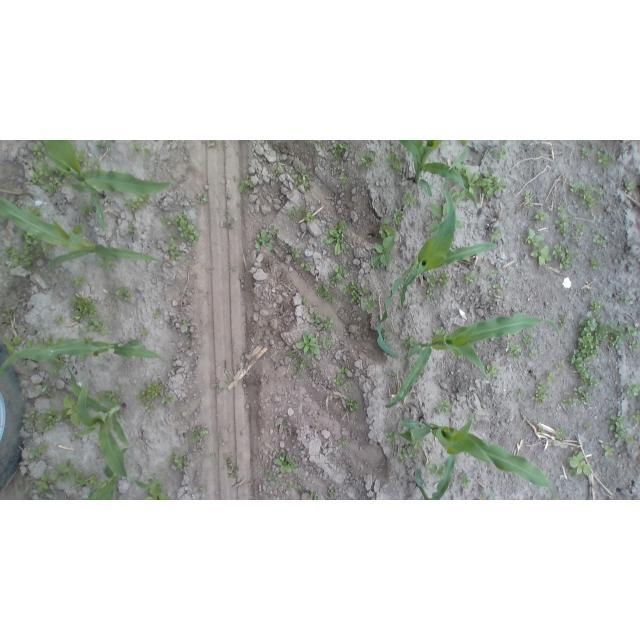Maize: (374, 191, 495, 360), (385, 312, 560, 410), (401, 410, 553, 499), (40, 141, 173, 232), (0, 196, 160, 267), (66, 354, 130, 478), (2, 338, 167, 375), (399, 141, 478, 208), (87, 448, 162, 500), (415, 454, 458, 500)
Weeds: (570, 310, 639, 387), (3, 231, 42, 269), (27, 160, 65, 194), (322, 219, 346, 256), (52, 460, 86, 486), (568, 179, 596, 209), (369, 236, 395, 268), (527, 229, 550, 265), (460, 166, 488, 195), (252, 224, 280, 250), (61, 393, 82, 427), (568, 450, 592, 479), (176, 213, 199, 243), (296, 332, 323, 357), (484, 172, 507, 198), (136, 379, 163, 401), (555, 205, 572, 239), (289, 165, 311, 191), (273, 453, 301, 473), (552, 240, 572, 268), (605, 413, 626, 437), (71, 295, 95, 315), (333, 366, 352, 391), (312, 310, 335, 330), (40, 408, 57, 434), (328, 262, 348, 284), (167, 233, 183, 260), (143, 485, 171, 500), (342, 278, 358, 304), (120, 196, 151, 209), (356, 151, 378, 169), (362, 287, 377, 313), (376, 218, 396, 237), (534, 382, 551, 404), (425, 272, 438, 300), (331, 140, 349, 160), (314, 282, 334, 300), (597, 151, 617, 169), (3, 335, 23, 353), (489, 142, 508, 160), (35, 472, 50, 493), (573, 387, 591, 404), (397, 445, 416, 461), (389, 151, 404, 171), (573, 221, 584, 247), (188, 429, 208, 443), (29, 444, 50, 457), (436, 400, 453, 415), (99, 258, 116, 273), (76, 148, 89, 167), (428, 462, 444, 477), (236, 178, 251, 194), (88, 318, 105, 332), (404, 335, 417, 353), (581, 142, 594, 160), (103, 391, 121, 404), (558, 308, 569, 329), (626, 381, 640, 397), (115, 286, 131, 300), (509, 344, 522, 361), (345, 397, 360, 411), (24, 406, 38, 421), (393, 208, 406, 224), (460, 475, 473, 490), (486, 364, 499, 379), (439, 272, 452, 287), (594, 233, 609, 246), (1, 306, 14, 321), (297, 360, 312, 373), (388, 429, 399, 446), (404, 191, 417, 205), (160, 213, 175, 225), (521, 334, 535, 346), (464, 271, 476, 285), (32, 145, 46, 157), (40, 383, 52, 397), (535, 210, 550, 221), (524, 189, 534, 205), (290, 246, 302, 259), (337, 436, 349, 449), (175, 454, 186, 468), (210, 382, 227, 391), (589, 300, 604, 310), (127, 219, 137, 234), (28, 205, 43, 215), (339, 169, 348, 185), (162, 392, 174, 404), (222, 219, 235, 230), (545, 371, 558, 382), (81, 202, 92, 215), (271, 164, 284, 175), (322, 335, 332, 349), (630, 409, 640, 423), (43, 244, 57, 254), (87, 474, 98, 486), (493, 283, 506, 293), (288, 206, 298, 219), (300, 258, 310, 270), (77, 323, 87, 334), (142, 147, 152, 158), (591, 259, 601, 270), (382, 329, 390, 342), (528, 348, 538, 358), (623, 295, 633, 305), (491, 228, 501, 238), (74, 275, 84, 285), (574, 249, 584, 259), (135, 328, 145, 338), (132, 143, 141, 154), (53, 357, 64, 366), (299, 203, 306, 217), (168, 451, 175, 465), (478, 493, 494, 499), (606, 445, 615, 455), (624, 180, 634, 189), (198, 194, 208, 203), (556, 428, 564, 439), (387, 371, 398, 379), (432, 328, 446, 334), (556, 361, 565, 370), (307, 213, 316, 222), (490, 268, 500, 276), (308, 490, 318, 498), (90, 156, 101, 163), (97, 142, 112, 147), (35, 336, 44, 344), (564, 398, 573, 406), (145, 403, 153, 412), (268, 473, 276, 482), (47, 335, 54, 345), (208, 140, 216, 148), (286, 480, 294, 488), (54, 316, 62, 324), (198, 485, 207, 492), (583, 422, 592, 429), (52, 367, 61, 374), (84, 337, 92, 344), (627, 436, 634, 444), (153, 310, 160, 318), (537, 427, 546, 433), (316, 140, 325, 146), (518, 389, 525, 396), (328, 490, 335, 497), (26, 340, 33, 347), (301, 295, 307, 303), (279, 421, 285, 429), (72, 316, 81, 321), (157, 478, 164, 483), (508, 140, 516, 144), (296, 371, 300, 379), (184, 323, 190, 328), (599, 187, 603, 194)
